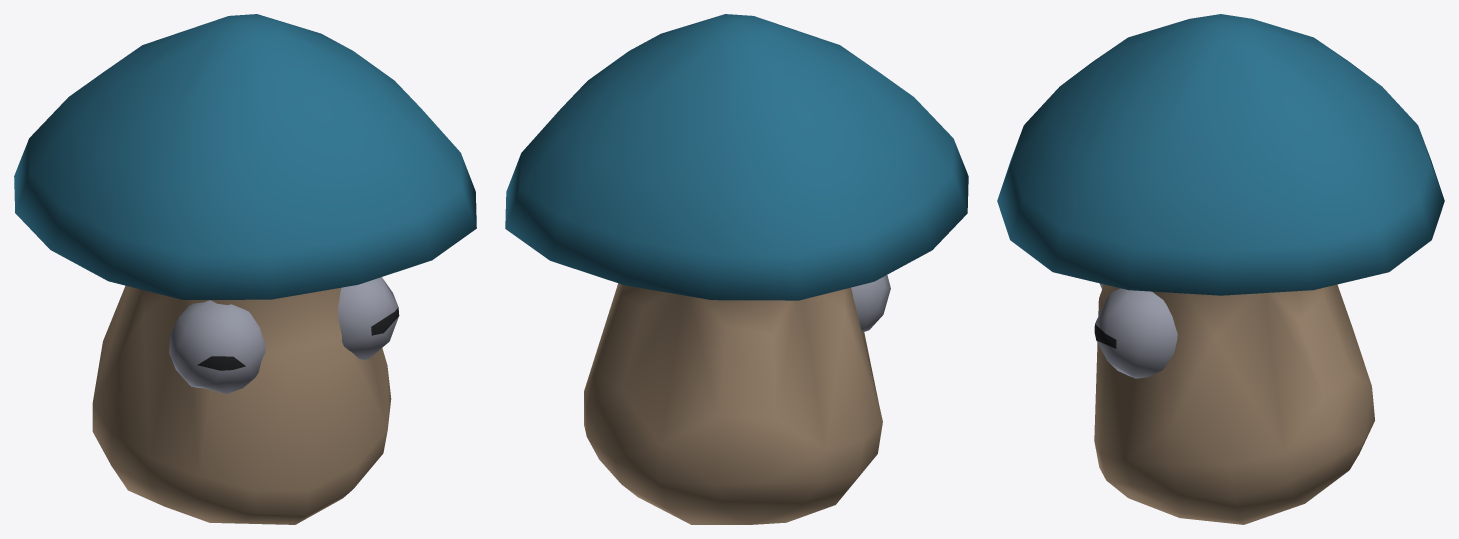
Rendered from cc0-mushnub-lod1.glb.
3 views of the same model, side by side, from view 1: azimuth 30°, elevation 25°; view 2: azimuth 150°, elevation 25°; view 3: azimuth 270°, elevation 25° (orthographic).
Parts seen in each view (by area): view 1: part_4; view 2: part_4; view 3: part_4.
Part boxes in pixels (<box>): part_4: <box>14,14,476,524</box>; part_4: <box>505,14,968,524</box>; part_4: <box>997,14,1444,524</box>.
Bounding box in the file's own units: 2.75 × 3.3 × 2.75.
1 material, 1 textured.
